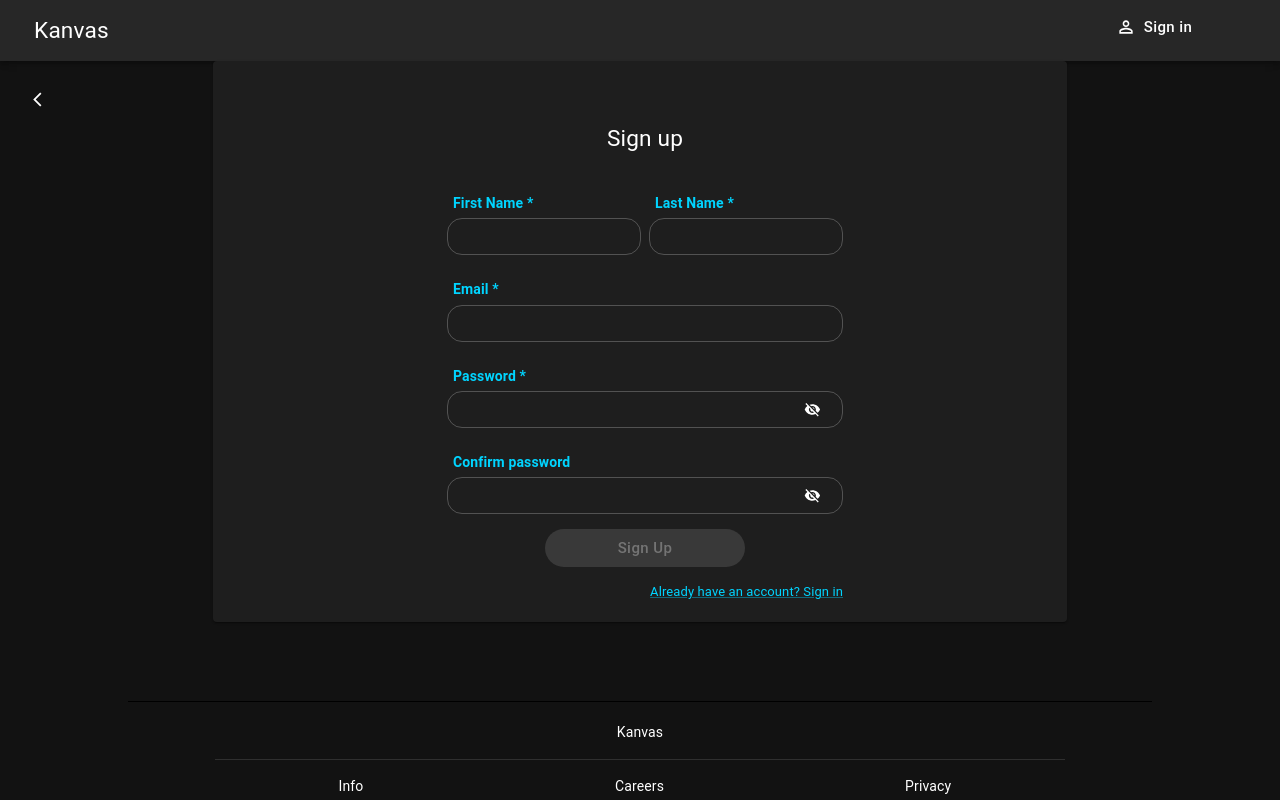
When user tries to sign up with invalid email › shows a message that email is invalid and submit button is disabled
The image size is (1280, 800).
Type "invalidemail@invalid." into the element with test id "email-input" at (645, 322), box 447,301 -> 843,342
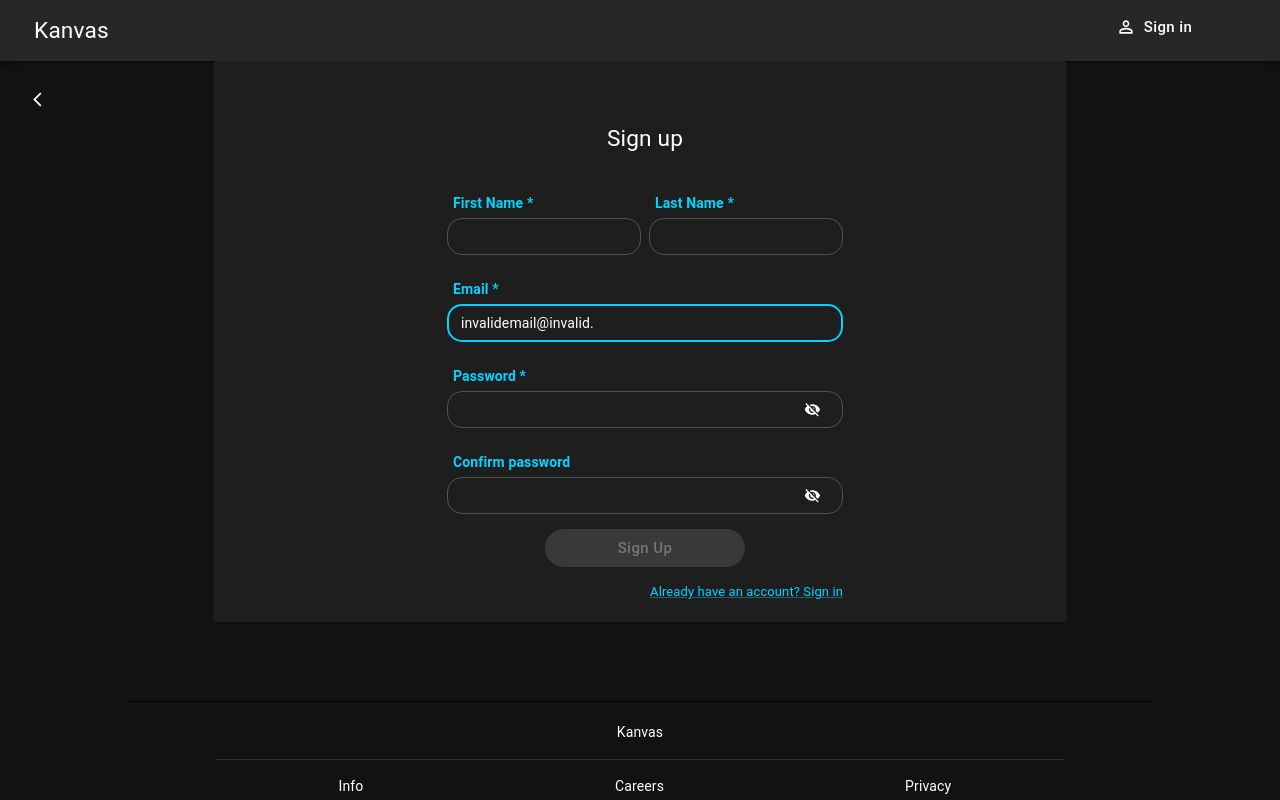
Type "Teppo" into the element with test id "first-name-input" at (544, 235), box 447,214 -> 641,255
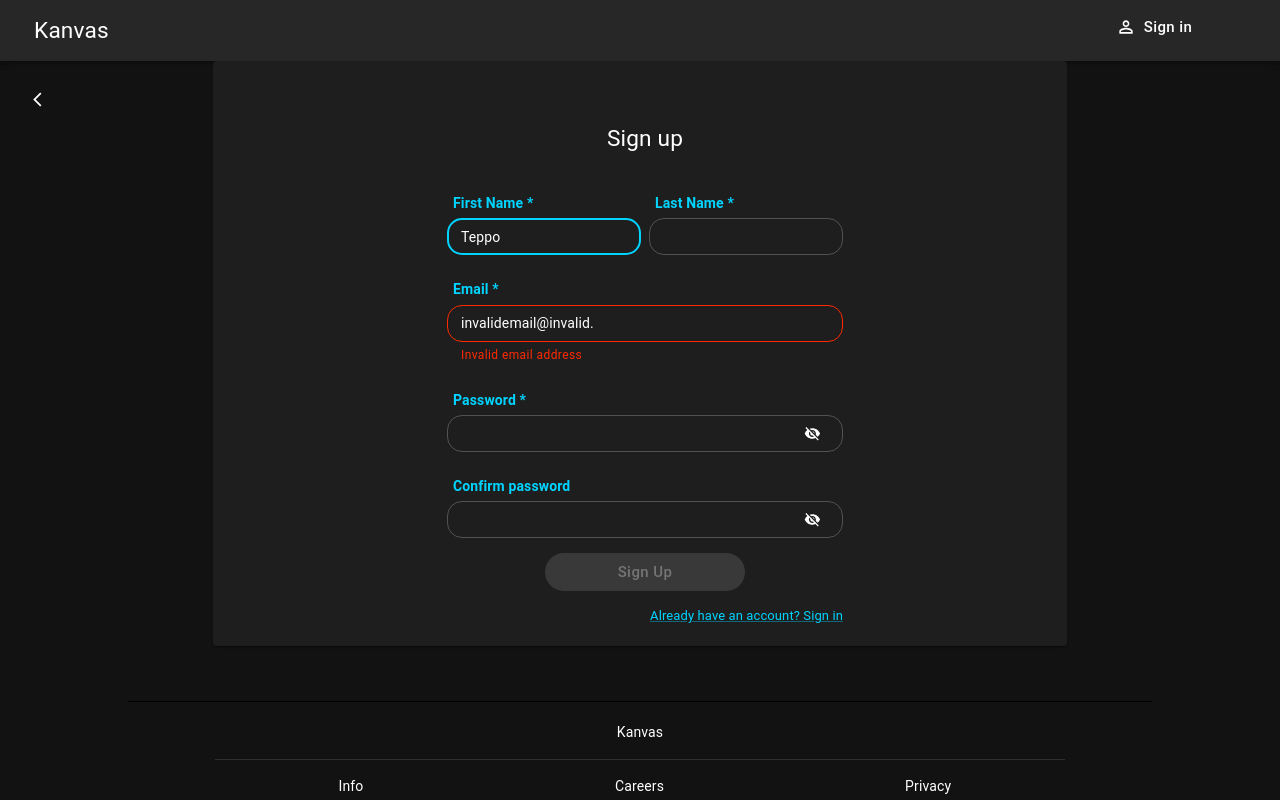
Expected: the button with test id "signup-submit" is disabled, 545,553 -> 745,591
Expected: the text "Invalid email address" is shown, 461,348 -> 582,362
